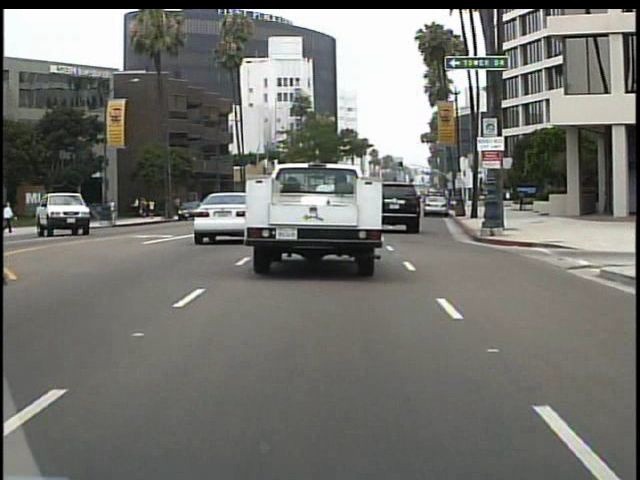person: (56, 199, 73, 235), (5, 199, 21, 236), (63, 192, 79, 229), (113, 197, 120, 225)
